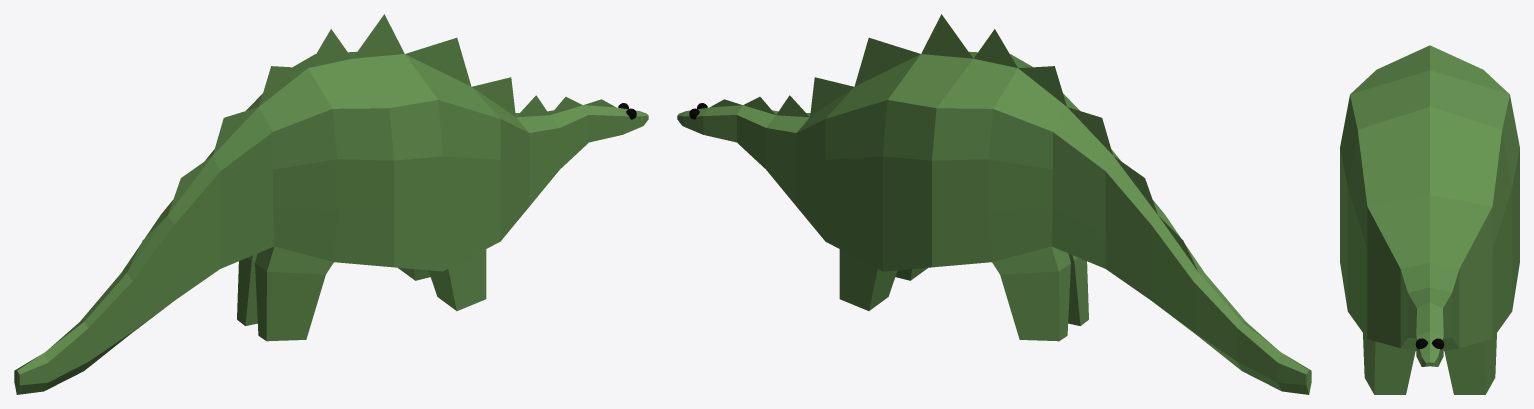
Rendered from uploads_files_3640170_stego_file.fbx.
The picture shows the model from 3 angles, left to right: view 1: azimuth 30°, elevation 25°; view 2: azimuth 150°, elevation 25°; view 3: azimuth 270°, elevation 25°; orthographic projection. The views are drawn at different scales.
Visible parts, largest first — view 1: MrStego; view 2: MrStego; view 3: MrStego.
Part boxes in pixels (bbox=[...]): MrStego: bbox=[14, 14, 648, 394]; MrStego: bbox=[677, 14, 1311, 394]; MrStego: bbox=[1340, 45, 1519, 394].
Size of the model in its own units: 478 by 213 by 109.
